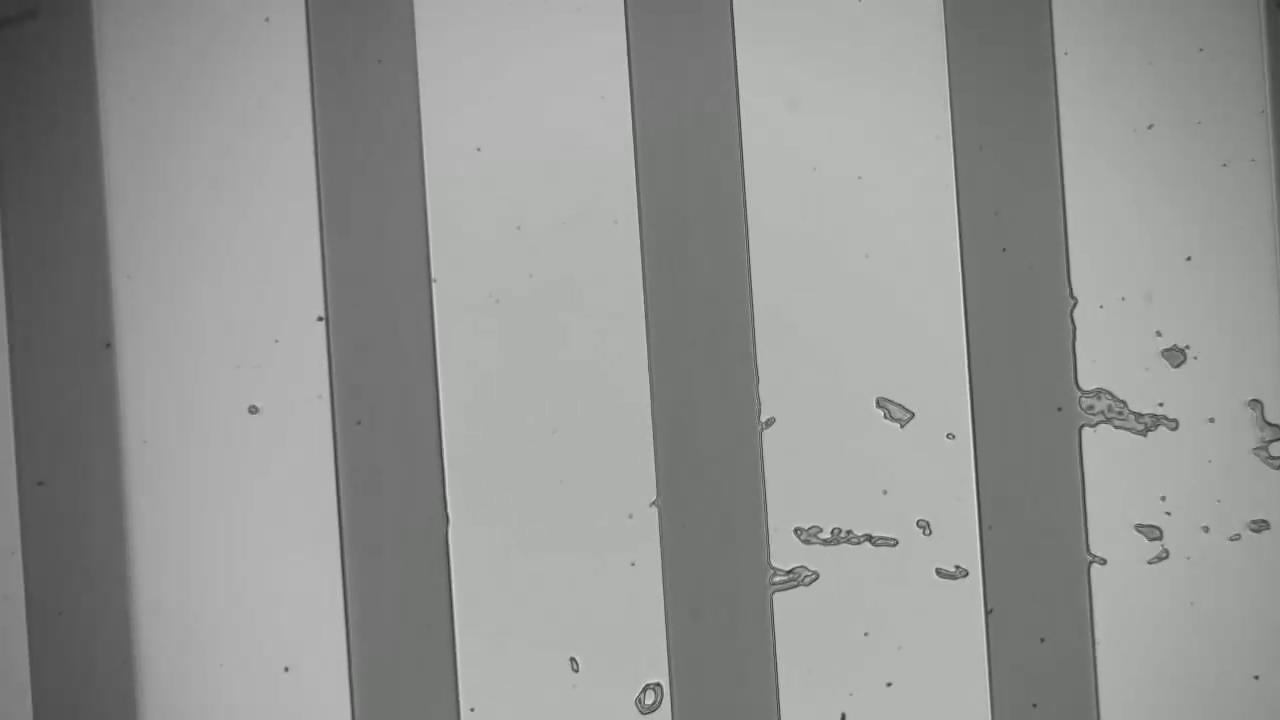edge_bite: (1078, 538, 1115, 580), (745, 410, 782, 440), (1060, 284, 1090, 319)
